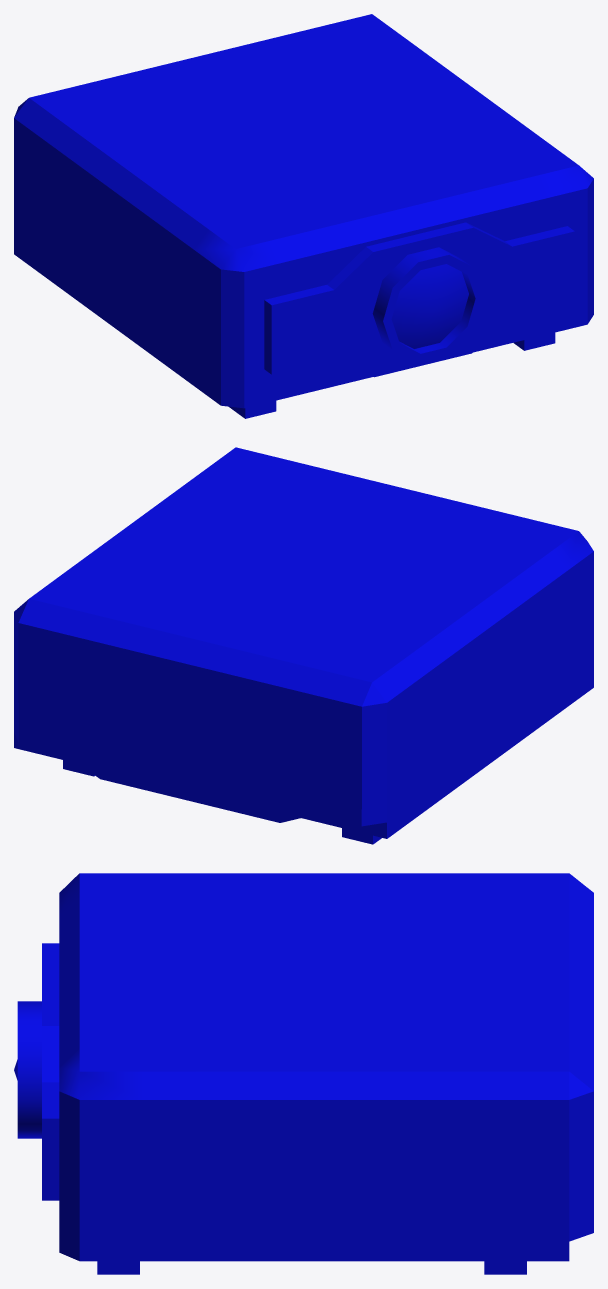
Rendered from Projector.FBX.
The picture shows the model from 3 angles, top to bottom: view 1: azimuth 30°, elevation 25°; view 2: azimuth 150°, elevation 25°; view 3: azimuth 270°, elevation 25°; orthographic projection. The views are drawn at different scales.
Visible parts, largest first — view 1: Projector_Body_Low; view 2: Projector_Body_Low; view 3: Projector_Body_Low.
Part boxes in pixels (bbox=[...]): Projector_Body_Low: bbox=[14, 14, 593, 418]; Projector_Body_Low: bbox=[14, 447, 593, 844]; Projector_Body_Low: bbox=[14, 873, 593, 1274].
Size of the model in its own units: 12.46 by 5.73 by 14.17.
